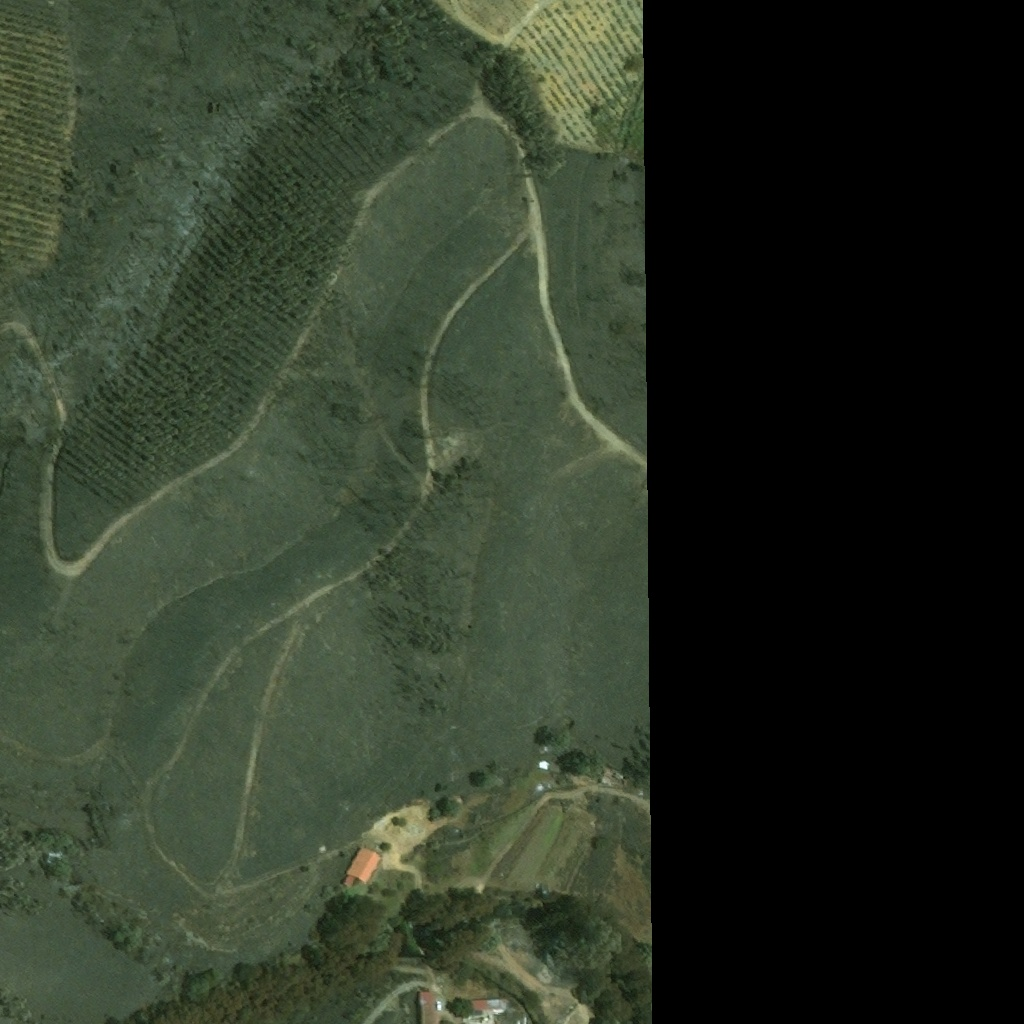0 no-damage: (344, 845, 384, 886), (418, 991, 438, 1023), (472, 999, 506, 1010)
3 destroyed: (595, 763, 637, 789)
